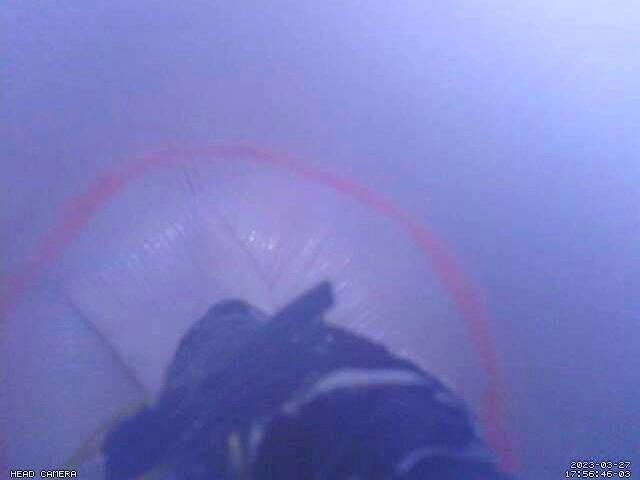head: (1, 143, 519, 480)
